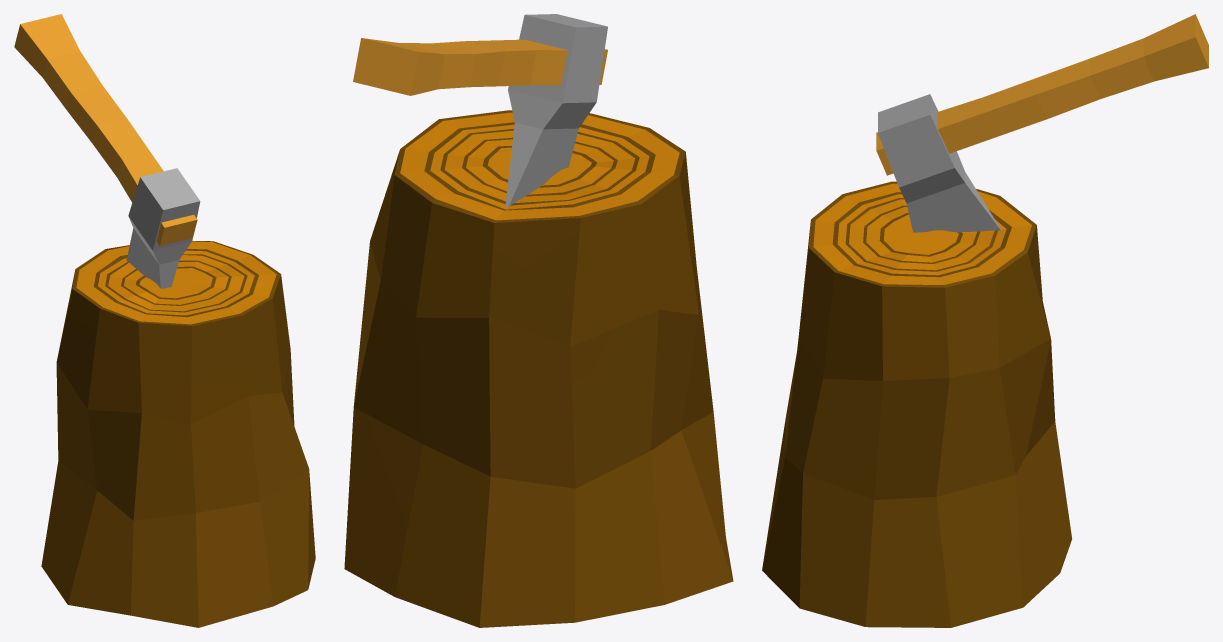
File: panj i sikira.fbx
The picture shows the model from 3 angles, left to right: view 1: azimuth 30°, elevation 25°; view 2: azimuth 150°, elevation 25°; view 3: azimuth 270°, elevation 25°; orthographic projection. The views are drawn at different scales.
Parts seen in each view (by area): view 1: Cylinder.007; view 2: Cylinder.007; view 3: Cylinder.007.
Boxes of the visible parts, <box> form: Cylinder.007: <box>14,14,315,627</box>; Cylinder.007: <box>344,14,733,627</box>; Cylinder.007: <box>762,14,1208,627</box>.
Bounding box in the file's own units: 31.82 × 57.36 × 43.75.
